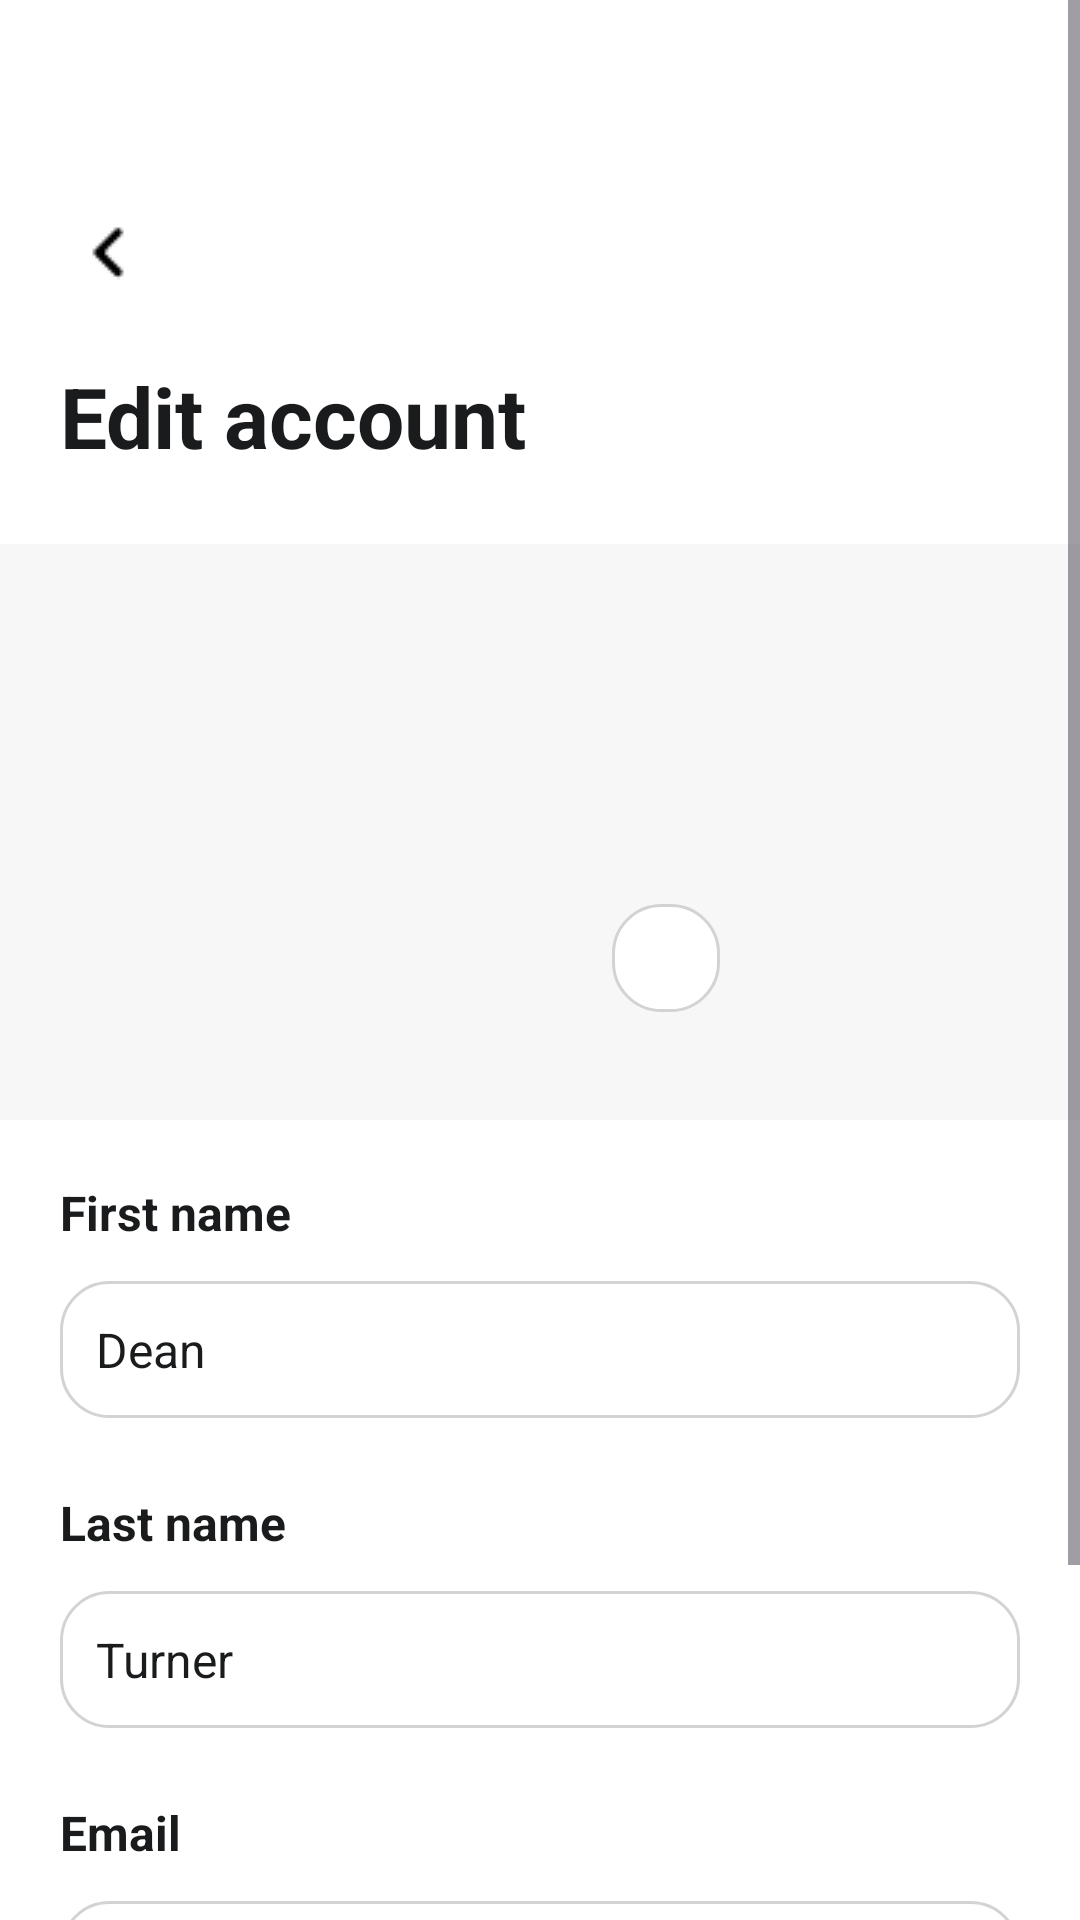

Named icons in this screenshot (1080px x 1920px) and their centers, point (x, y):
back: point (108, 252)
